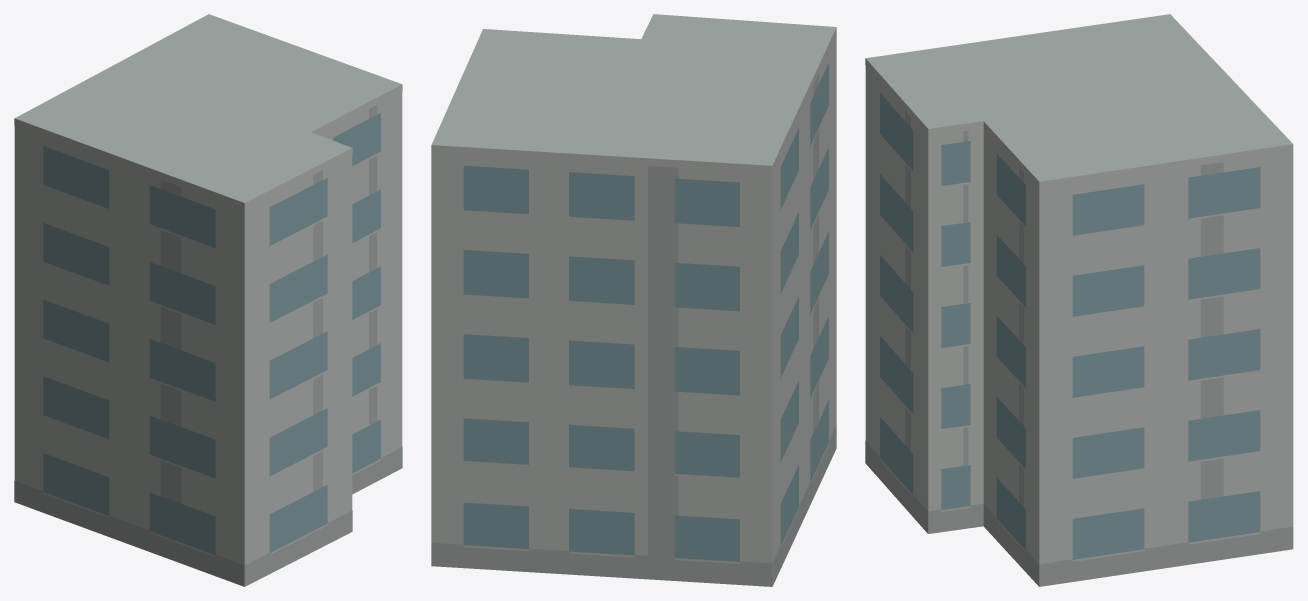
File: survey-upis-32837569.glb
The picture shows the model from 3 angles, left to right: view 1: azimuth 30°, elevation 25°; view 2: azimuth 150°, elevation 25°; view 3: azimuth 270°, elevation 25°; orthographic projection. The views are drawn at different scales.
Parts seen in each view (by area): view 1: survey-upis-32837569.tmp; view 2: survey-upis-32837569.tmp; view 3: survey-upis-32837569.tmp.
Part boxes in pixels (box(x1,y1,x2,y2)): survey-upis-32837569.tmp: box(14, 14, 402, 586); survey-upis-32837569.tmp: box(431, 14, 836, 586); survey-upis-32837569.tmp: box(865, 14, 1293, 586).
Bounding box in the file's own units: 11.65 × 13.1 × 12.55.
